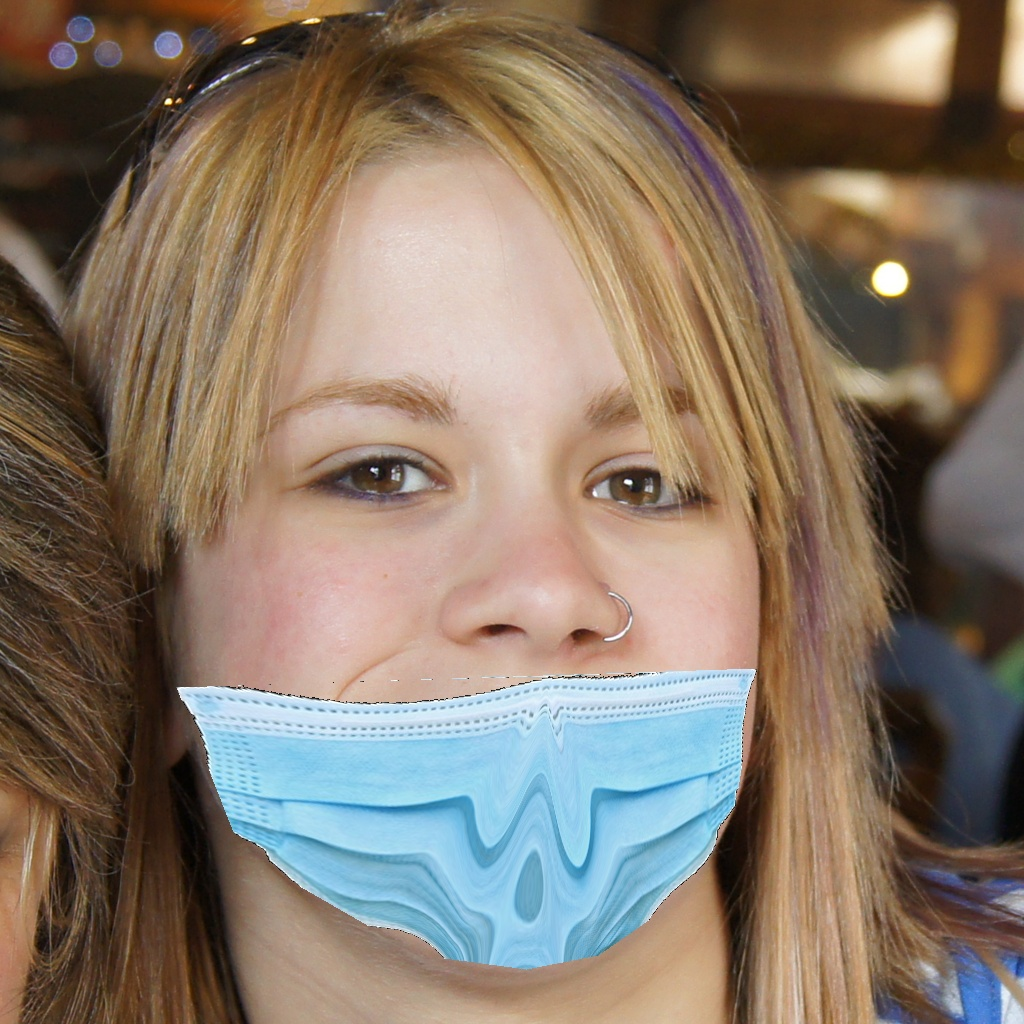mask_weared_incorrect: (154, 351, 850, 976)
